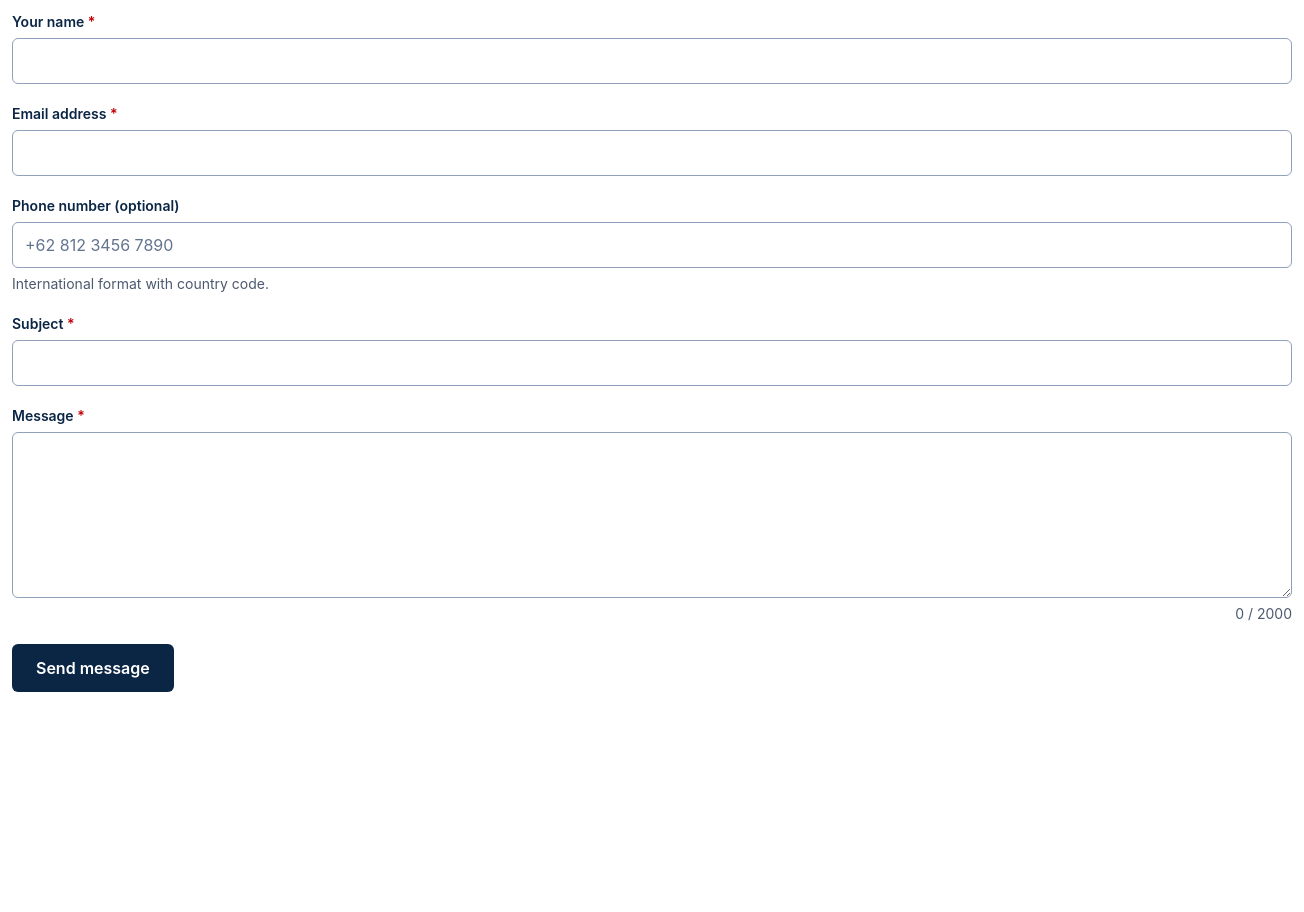
Scenario: ContactForm › validates required fields and the optional phone format
The width and height of the screenshot is (1304, 912).
Type "0812" into the field labelled "Phone number (optional)".
click(652, 245); type("0812")  # box [12,222,1292,268]
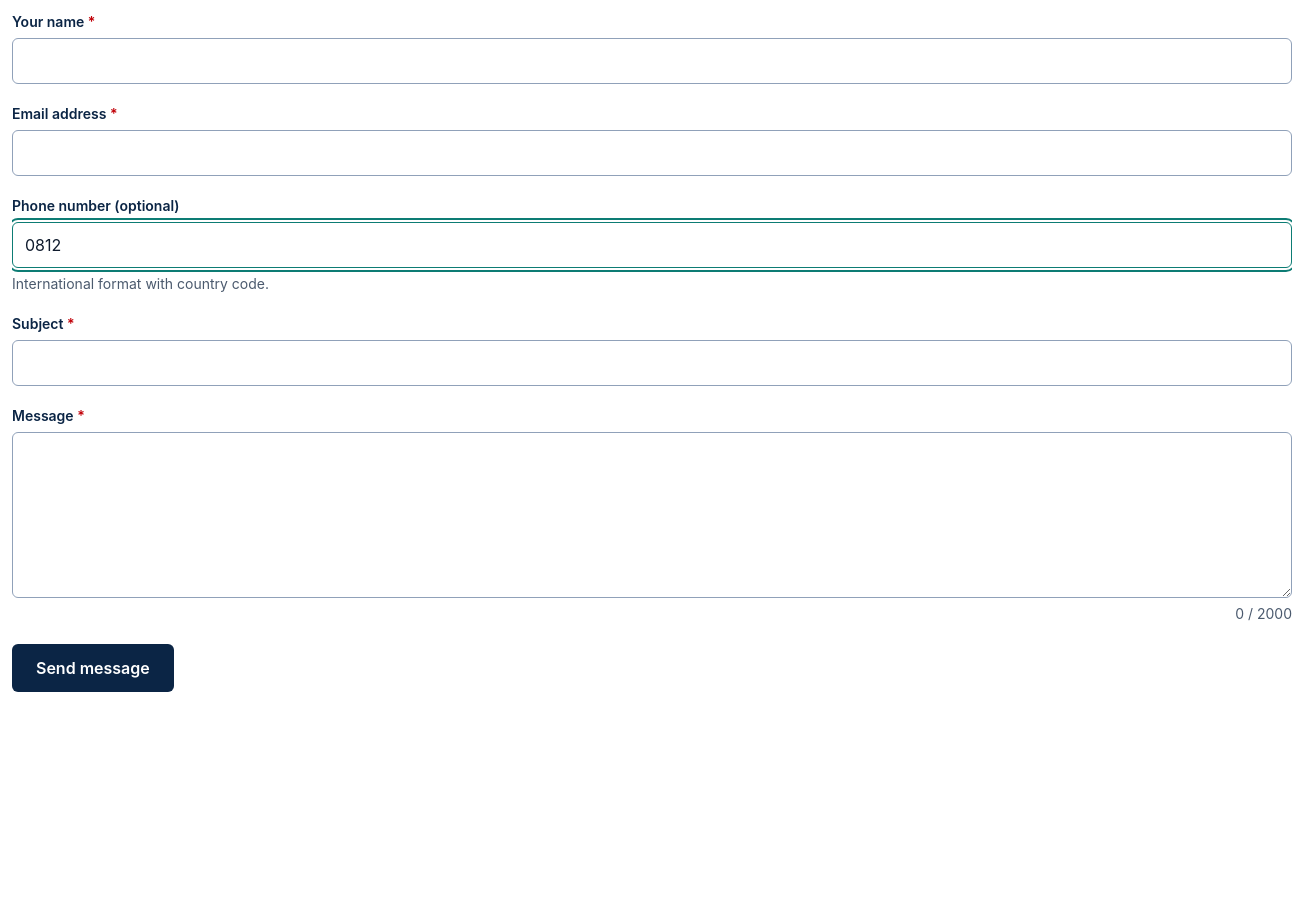
Click the button "Send message".
click(93, 668)  # box [12,644,174,692]
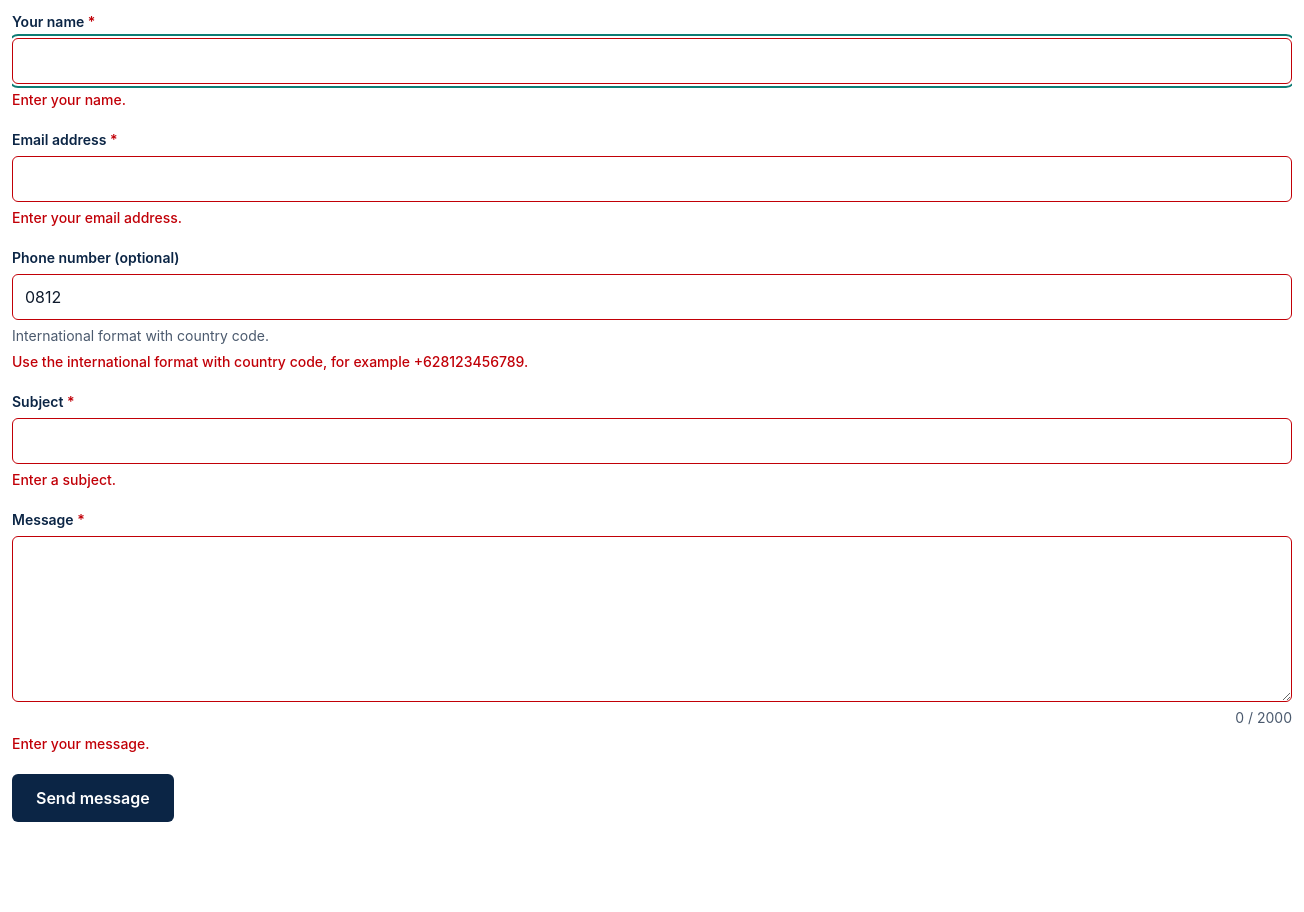
Check: the text "Enter your message." is shown, box [12,735,150,752]
Check: the text "Use the international format with country code, for example +628123456789." is shown, box [12,353,528,370]
